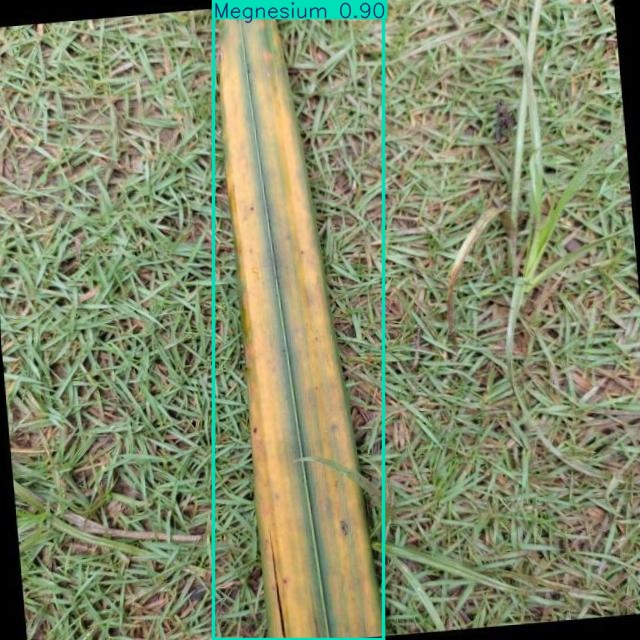Megnesium: (213, 0, 384, 640)
